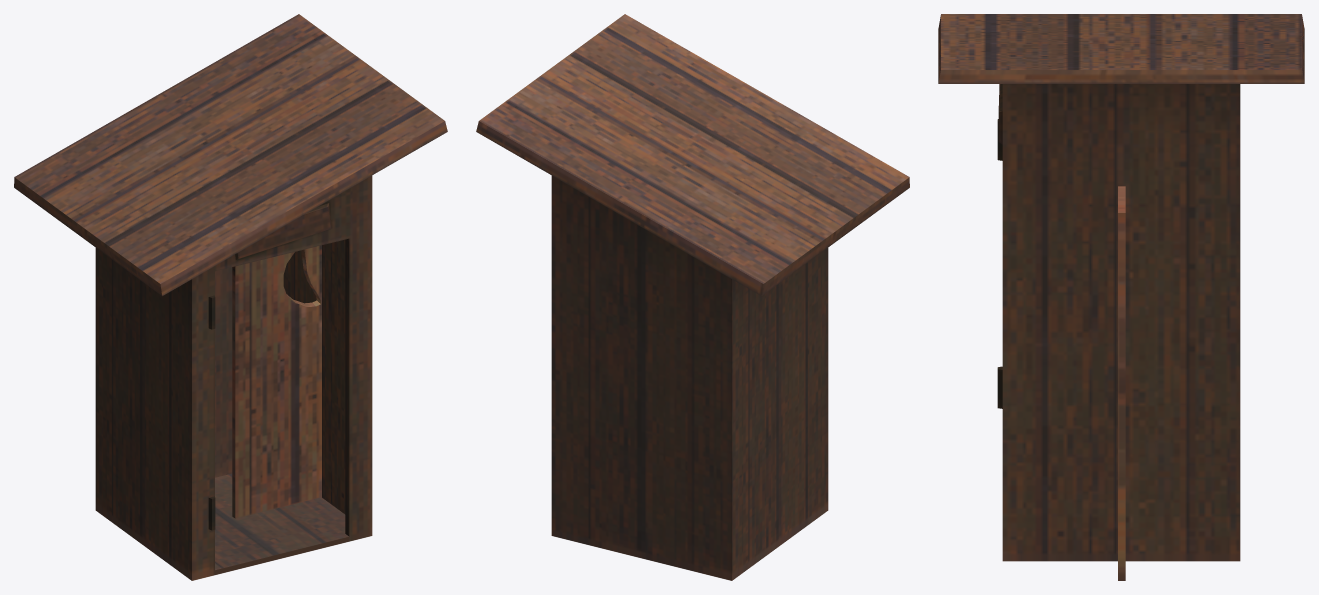
File: Outhouse.fbx
The picture shows the model from 3 angles, left to right: view 1: azimuth 30°, elevation 25°; view 2: azimuth 150°, elevation 25°; view 3: azimuth 270°, elevation 25°; orthographic projection. The views are drawn at different scales.
Parts seen in each view (by area): view 1: Outhouse, Outhouse_Door; view 2: Outhouse; view 3: Outhouse, Outhouse_Door.
Boxes of the visible parts, x1,y1,x2,y2 form: Outhouse: [14, 14, 447, 580]; Outhouse_Door: [232, 245, 321, 518]; Outhouse: [476, 14, 909, 580]; Outhouse: [938, 14, 1304, 561]; Outhouse_Door: [1118, 186, 1125, 580].
Bounding box in the file's own units: 214 × 301 × 192.
